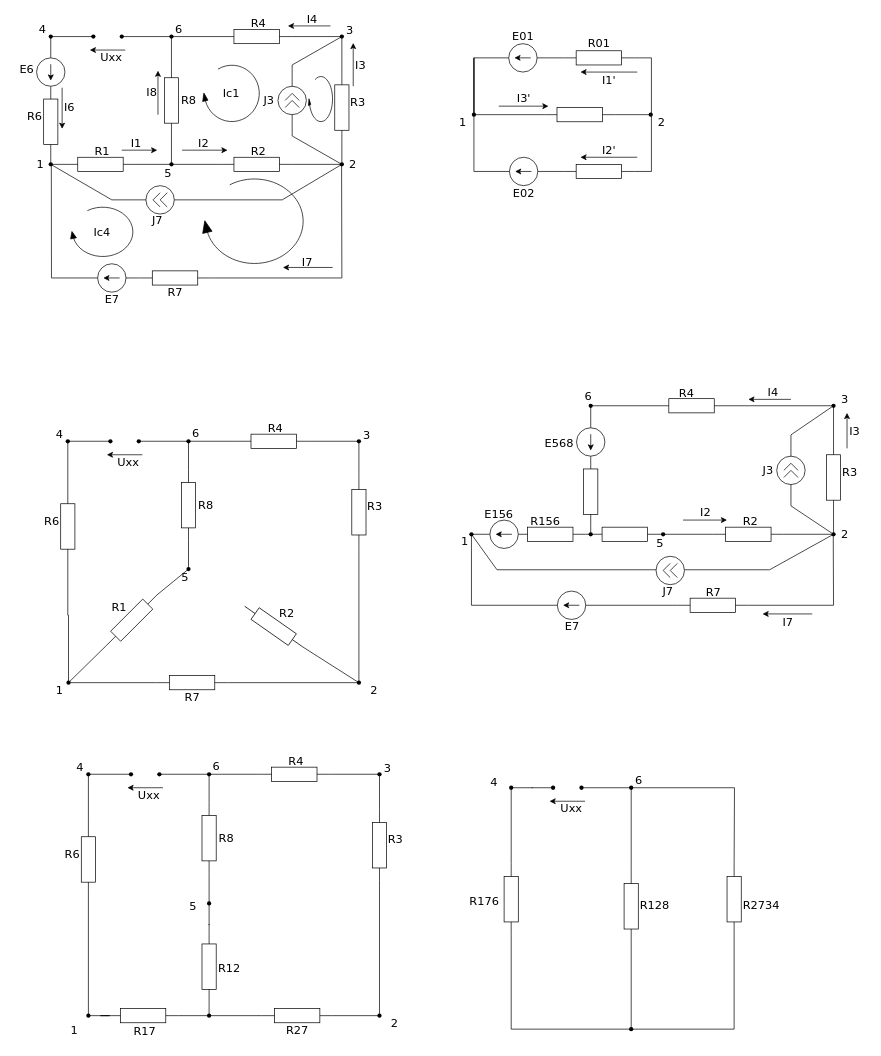
This 881x1056 diagram has some shape labels left out. The centre of each missing label's shape, as x and y in pixels:
"Ic3" goes at point 320,99.
"Iс2" goes at point 253,221.
"R02" goes at point 598,171.
"R03" goes at point 579,114.
"R18" goes at point 624,533.
"R568" goes at point 590,491.
